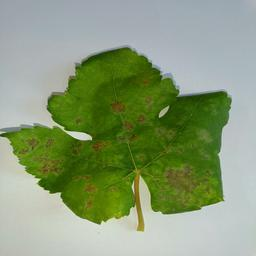Powdery-Mildew: (158, 166, 214, 207), (118, 109, 146, 142), (36, 153, 62, 182), (25, 128, 57, 151), (77, 178, 97, 210), (142, 90, 159, 106), (206, 97, 222, 114), (197, 127, 213, 144), (93, 137, 110, 153), (112, 96, 128, 112), (67, 142, 83, 158)
